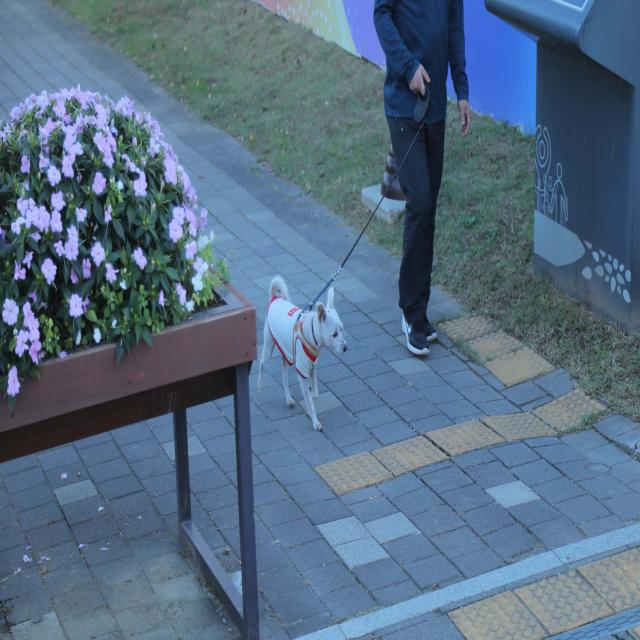Leashed_Dog: (256, 60, 422, 431)
